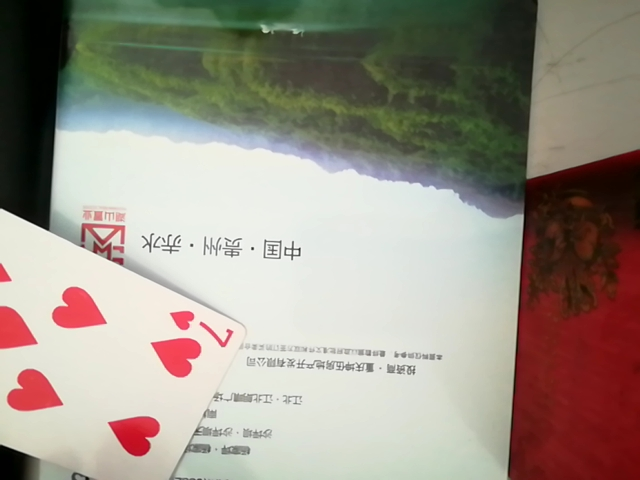hx 7: (2, 189, 243, 477)
